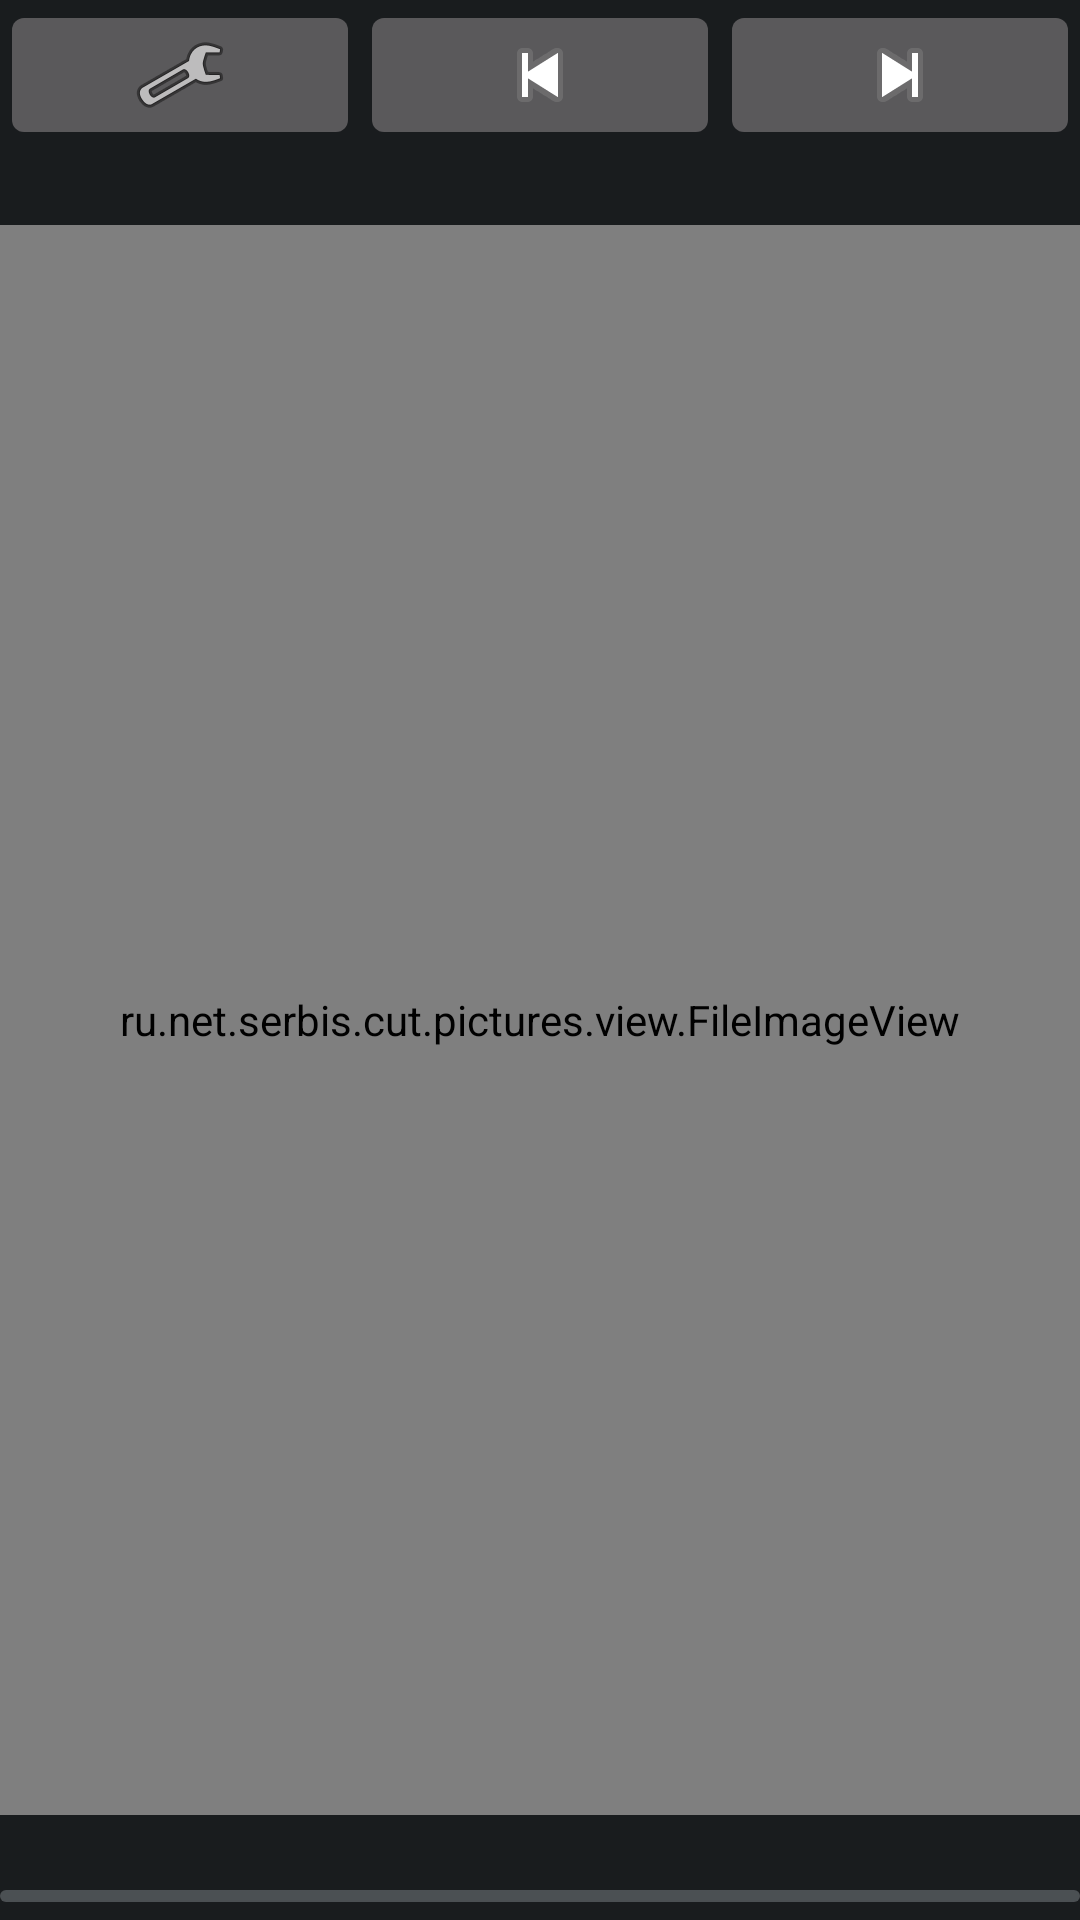

Icon click points for this 1080 x 1920 phone screenshot, format (x,y):
manage: (180,75)
next: (900,75)
previous: (540,75)
